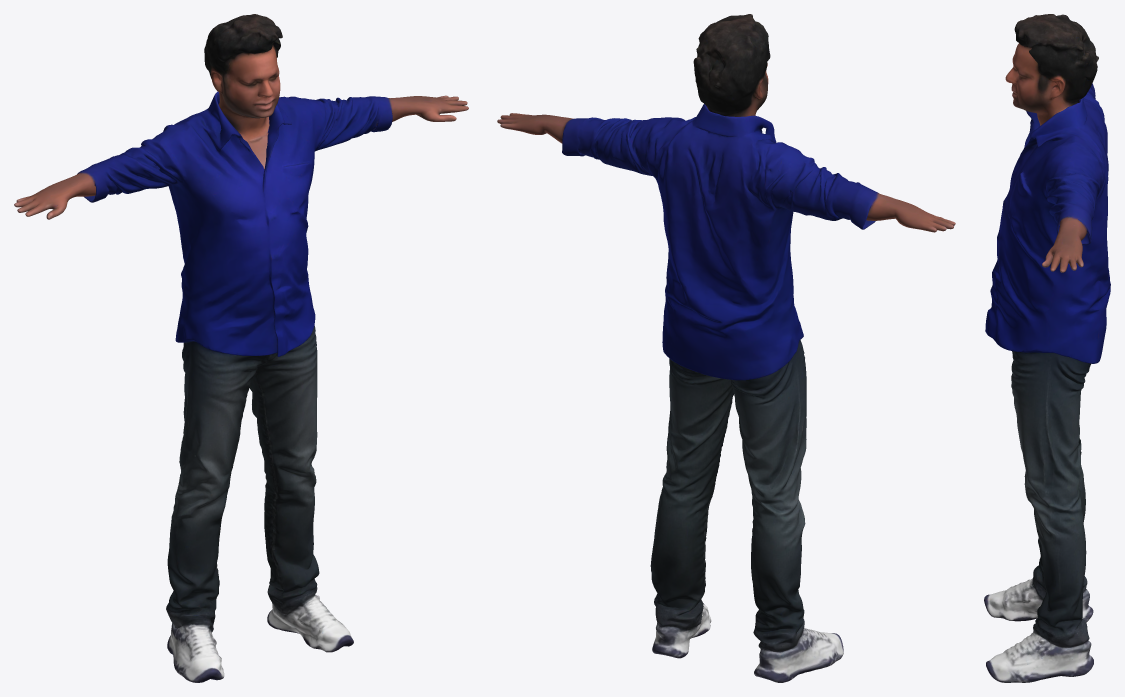
Rendered from sample_2026-11-12T234545.865.glb.
The picture shows the model from 3 angles, left to right: view 1: azimuth 30°, elevation 25°; view 2: azimuth 150°, elevation 25°; view 3: azimuth 270°, elevation 25°; orthographic projection.
Parts seen in each view (by area): view 1: world; view 2: world; view 3: world.
Boxes of the visible parts, x1,y1,x2,y2 form: world: (14, 14, 468, 682); world: (497, 14, 955, 682); world: (984, 14, 1110, 682).
Size of the model in its own units: 0.744 by 0.9931 by 0.1825.
1 material, 1 textured.
